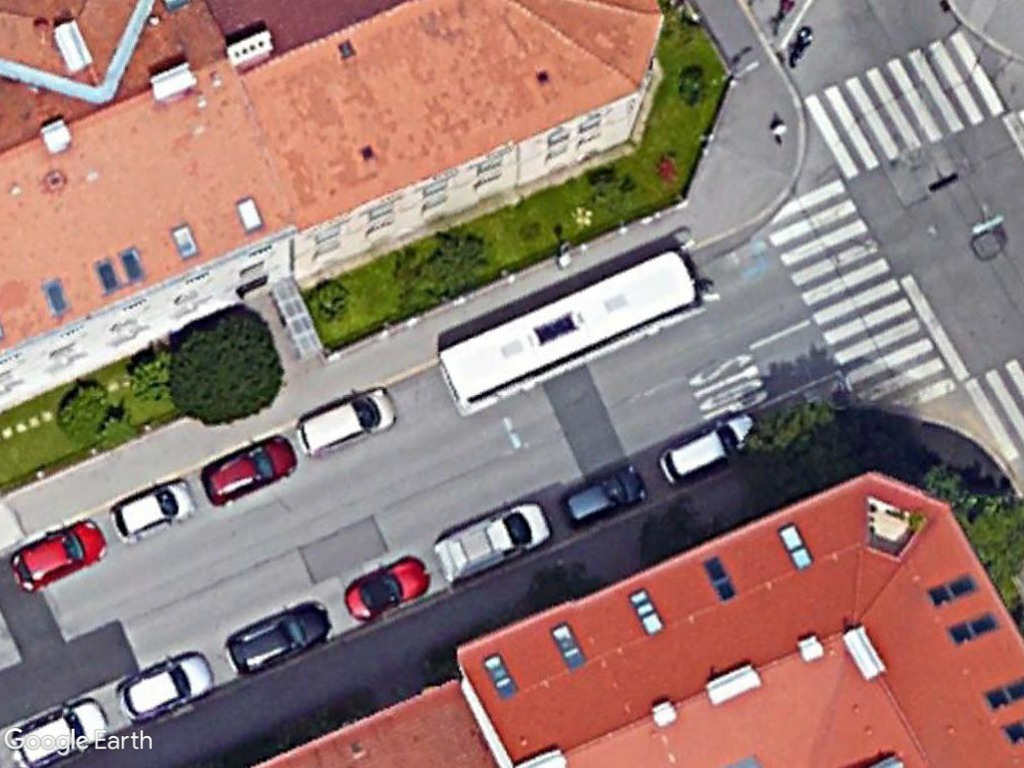bus: (430, 240, 712, 423)
car: (223, 591, 337, 680), (5, 513, 113, 598), (200, 426, 304, 512), (290, 379, 401, 458), (115, 646, 217, 727), (4, 694, 111, 768), (558, 458, 652, 535), (106, 468, 198, 546), (338, 551, 433, 626)
van: (431, 493, 552, 592)
